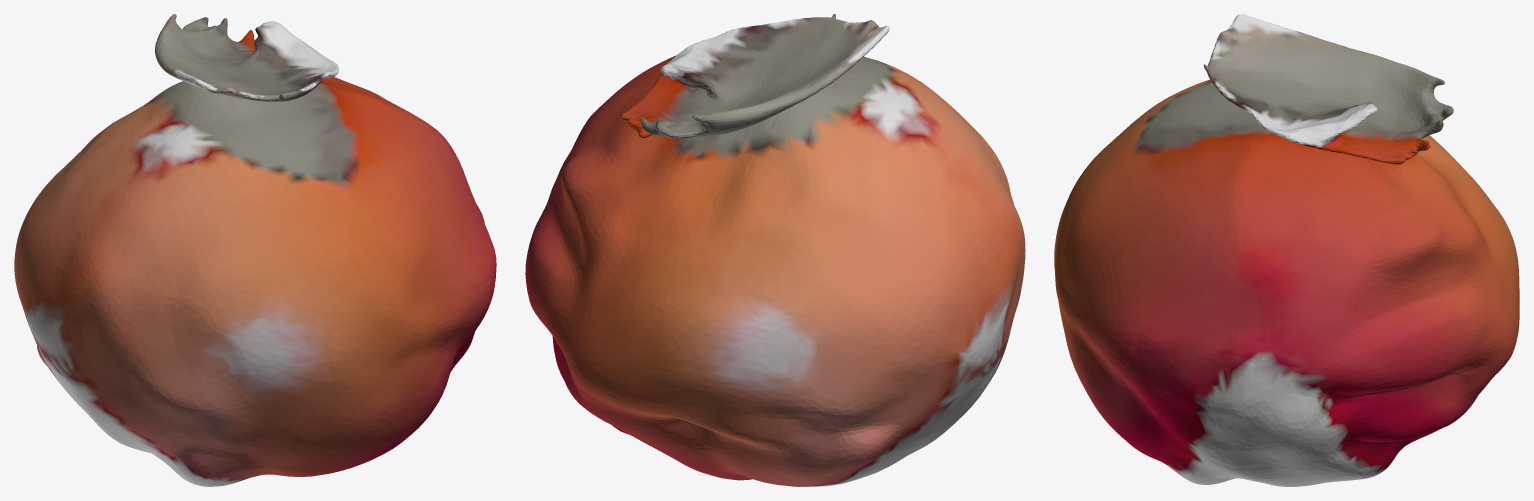
The model's file is tomato_big.glb.
The picture shows the model from 3 angles, left to right: view 1: azimuth 30°, elevation 25°; view 2: azimuth 150°, elevation 25°; view 3: azimuth 270°, elevation 25°; orthographic projection. The views are drawn at different scales.
Visible parts, largest first — view 1: geometry_0; view 2: geometry_0; view 3: geometry_0.
Part boxes in pixels (box(x1,y1,x2,y2)): geometry_0: box(14, 14, 496, 486); geometry_0: box(525, 14, 1025, 486); geometry_0: box(1054, 14, 1519, 486).
Bounding box in the file's own units: 0.75 × 0.6999 × 0.7344.
